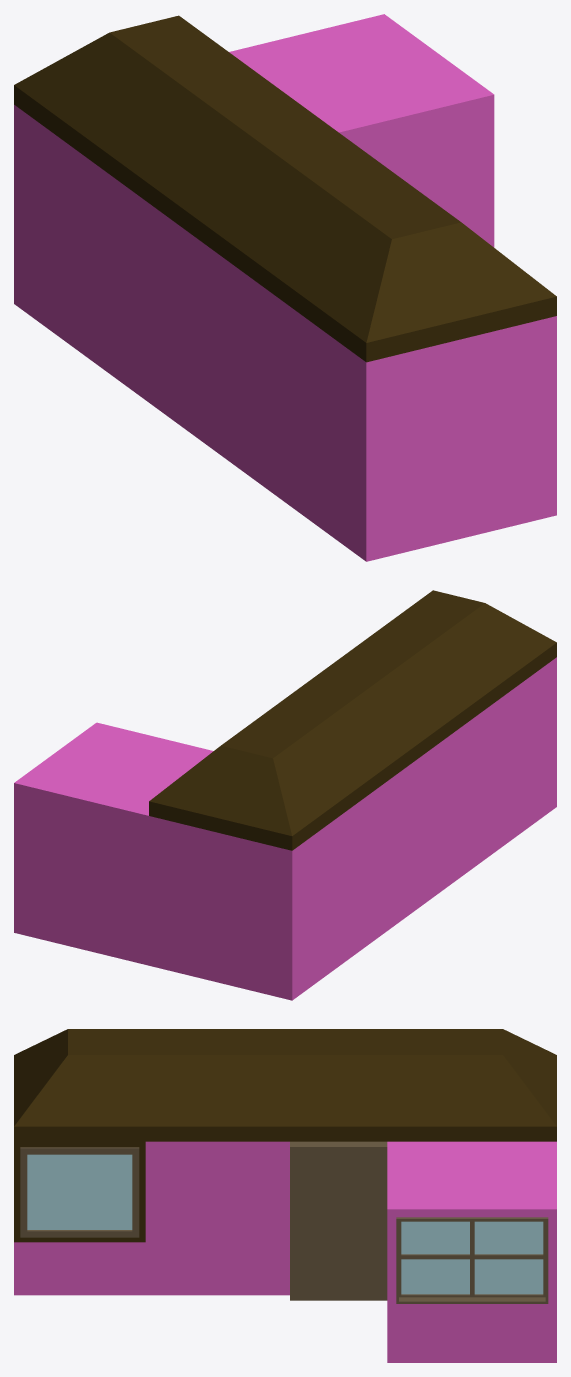
Rendered from Gouse Pink.fbx.
3 views of the same model, one above another, from view 1: azimuth 30°, elevation 25°; view 2: azimuth 150°, elevation 25°; view 3: azimuth 270°, elevation 25° (orthographic). The views are drawn at different scales.
Visible parts, largest first — view 1: Cube.004; view 2: Cube.004; view 3: Cube.004.
Boxes of the visible parts, bbox=[...] form: Cube.004: bbox=[14, 14, 556, 561]; Cube.004: bbox=[14, 590, 556, 1000]; Cube.004: bbox=[14, 1029, 556, 1362].
Bounding box in the file's own units: 7607 × 5464 × 12368.
